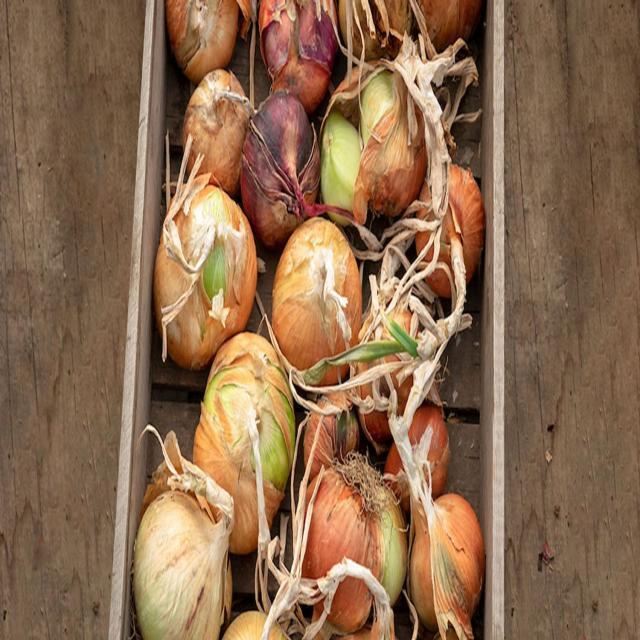Onion: (318, 32, 476, 230), (158, 129, 269, 367), (285, 452, 411, 640), (194, 327, 295, 557), (137, 420, 233, 640), (392, 422, 483, 640), (238, 88, 358, 251), (348, 279, 466, 444), (268, 218, 360, 390), (263, 539, 396, 640), (413, 164, 485, 291), (254, 2, 336, 106), (183, 69, 247, 193), (385, 404, 452, 507), (167, 0, 255, 76), (294, 394, 367, 476), (336, 3, 412, 59), (412, 0, 486, 53), (223, 609, 289, 640)
